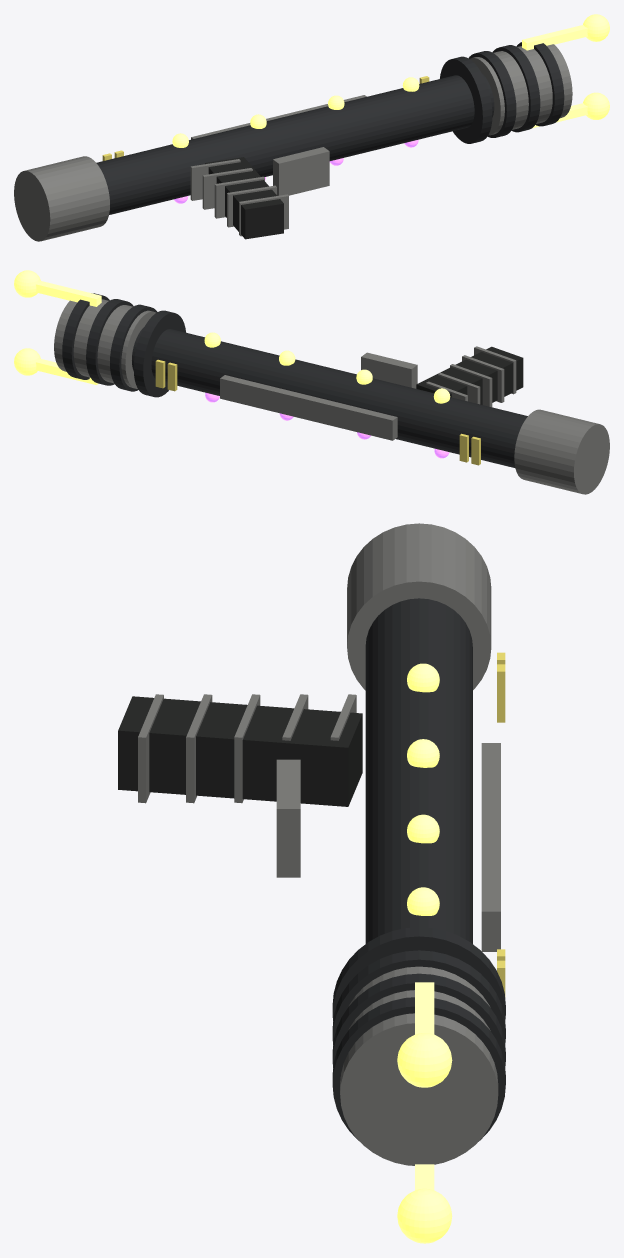
Rendered from shock_baton_v2.glb.
3 views of the same model, one above another, from view 1: azimuth 30°, elevation 25°; view 2: azimuth 150°, elevation 25°; view 3: azimuth 270°, elevation 25° (orthographic). The views are drawn at different scales.
Parts seen in each view (by area): view 1: Baton Spine, Rear Counterweight, Front Coil Housing, Angled Grip, Trigger Guard, Front Coil Ring 1, Front Coil Ring 2, Front Coil Ring 3, Front Coil Ring 4, Upper Electrode Prong, Grip Rib 5, Grip Rib 4 (+6 smaller); view 2: Baton Spine, Rear Counterweight, Top Rail, Front Coil Housing, Angled Grip, Front Coil Ring 1, Trigger Guard, Front Coil Ring 2, Front Coil Ring 3, Front Coil Ring 4, Upper Electrode Prong, Upper Arc Node (+6 smaller); view 3: Baton Spine, Angled Grip, Front Coil Housing, Rear Counterweight, Front Coil Ring 1, Top Rail, Front Coil Ring 4, Front Coil Ring 2, Front Coil Ring 3, Trigger Guard, Lower Arc Node, Upper Arc Node (+4 smaller).
Boxes of the visible parts, <box> form: Baton Spine: <box>96,73,494,214</box>; Rear Counterweight: <box>14,156,109,241</box>; Front Coil Housing: <box>470,44,572,135</box>; Angled Grip: <box>205,157,283,239</box>; Trigger Guard: <box>273,147,329,195</box>; Front Coil Ring 1: <box>440,56,492,143</box>; Front Coil Ring 2: <box>468,51,516,137</box>; Front Coil Ring 3: <box>492,45,540,132</box>; Front Coil Ring 4: <box>516,42,564,126</box>; Upper Electrode Prong: <box>522,25,587,50</box>; Grip Rib 5: <box>190,159,240,200</box>; Grip Rib 4: <box>202,168,252,209</box>; Baton Spine: <box>132,327,527,467</box>; Rear Counterweight: <box>514,409,609,494</box>; Top Rail: <box>220,375,397,440</box>; Front Coil Housing: <box>54,299,156,388</box>; Angled Grip: <box>416,346,523,404</box>; Front Coil Ring 1: <box>133,310,185,397</box>; Trigger Guard: <box>361,352,417,388</box>; Front Coil Ring 2: <box>110,304,157,391</box>; Front Coil Ring 3: <box>86,299,133,385</box>; Front Coil Ring 4: <box>62,293,109,379</box>; Upper Electrode Prong: <box>36,281,101,306</box>; Upper Arc Node: <box>14,270,40,297</box>; Baton Spine: <box>365,598,472,943</box>; Angled Grip: <box>118,696,362,806</box>; Front Coil Housing: <box>340,966,498,1165</box>; Rear Counterweight: <box>347,523,491,690</box>; Front Coil Ring 1: <box>332,927,505,1021</box>; Top Rail: <box>481,743,500,951</box>; Front Coil Ring 4: <box>332,997,505,1141</box>; Front Coil Ring 2: <box>332,950,505,1044</box>; Front Coil Ring 3: <box>332,973,505,1067</box>; Trigger Guard: <box>276,759,300,877</box>; Lower Arc Node: <box>397,1188,452,1243</box>; Upper Arc Node: <box>397,1033,452,1087</box>.
Size of the model in its own units: 1.93 by 0.33 by 0.5638.
